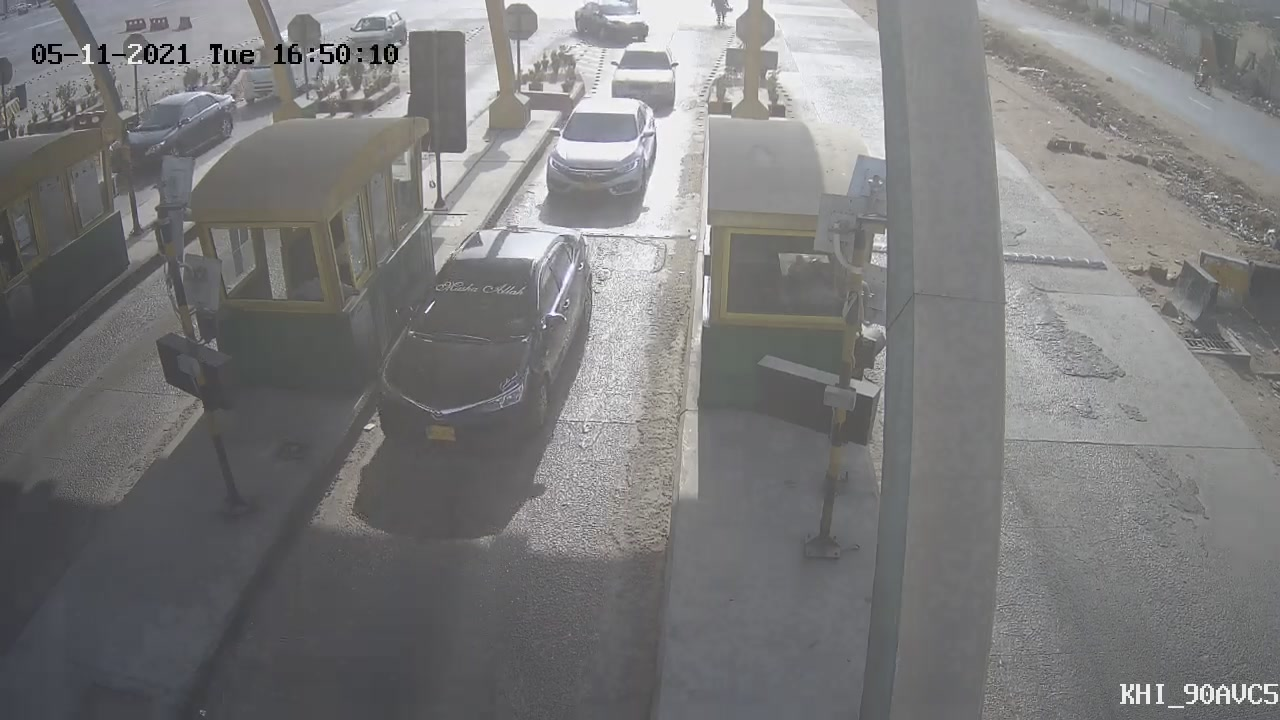F1: (352, 201, 607, 474), (527, 81, 679, 227)
